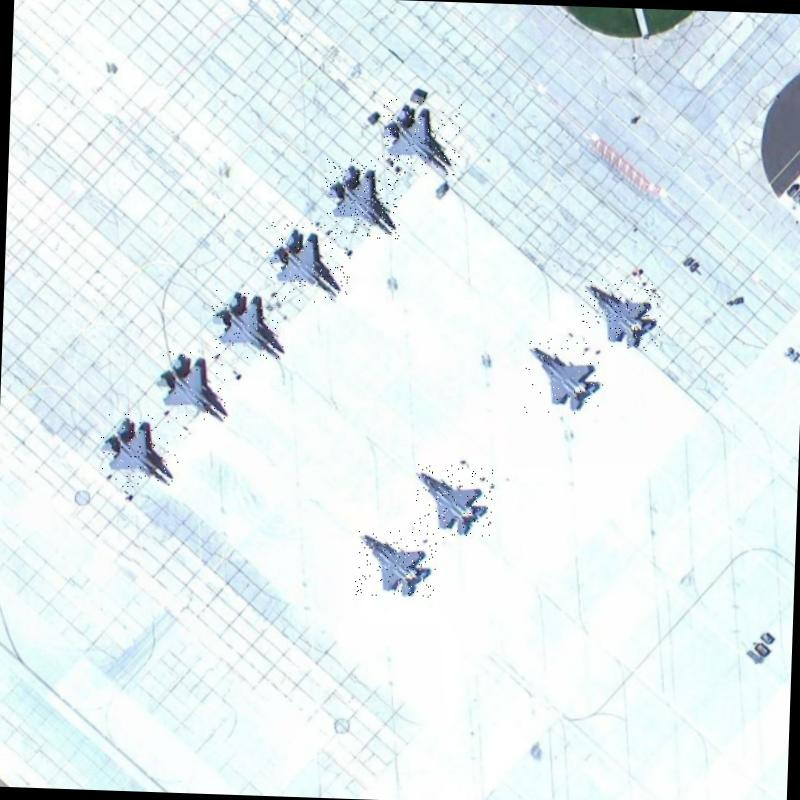A13: (264, 221, 352, 303), (322, 156, 404, 239), (150, 346, 233, 425), (380, 98, 462, 177), (98, 411, 182, 488), (524, 337, 604, 416), (413, 462, 493, 540), (579, 278, 661, 352), (210, 286, 290, 360), (354, 528, 436, 598)
